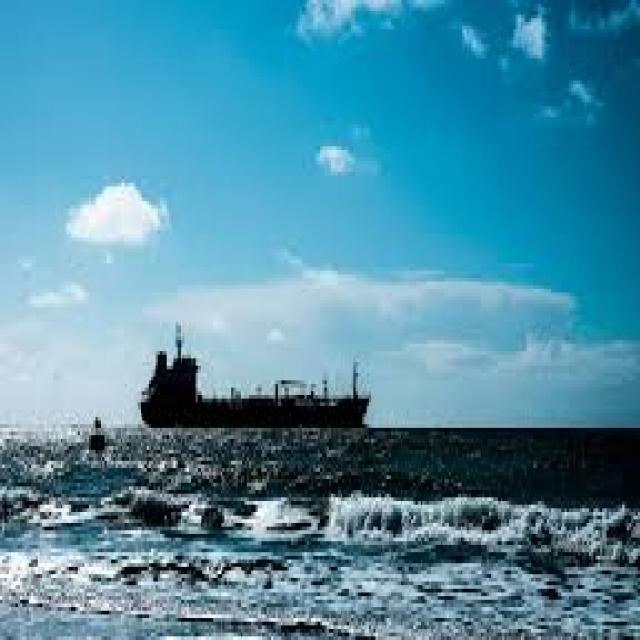cargoship: (138, 317, 370, 448)
